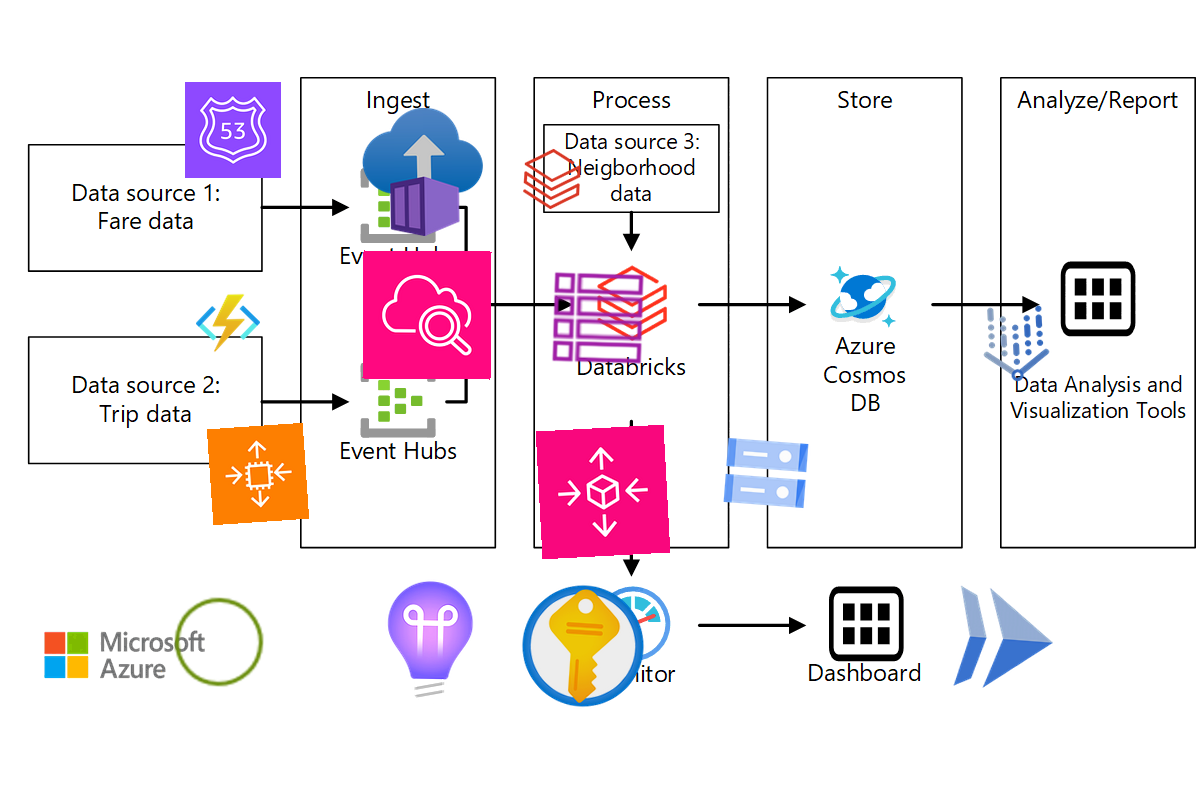aws_amazon_cloudwatch: (362, 250, 492, 380)
aws_amazon_ec2_auto_scaling: (206, 422, 310, 526)
aws_amazon_route_53: (184, 81, 282, 179)
aws_auto_scaling: (535, 424, 671, 560)
aws_dynamodb_table: (548, 268, 648, 368)
aws_simple_storage_service_object: (169, 592, 269, 692)
azure_application_insights: (364, 576, 496, 708)
azure_container_instances: (357, 106, 489, 238)
azure_databricks: (518, 145, 586, 213)
azure_function_apps: (195, 290, 261, 356)
azure_key_vaults: (514, 577, 652, 715)
gcp_cloud_run: (934, 570, 1072, 708)
gcp_cloud_storage: (714, 421, 818, 525)
gcp_vertex_ai: (965, 293, 1067, 395)
